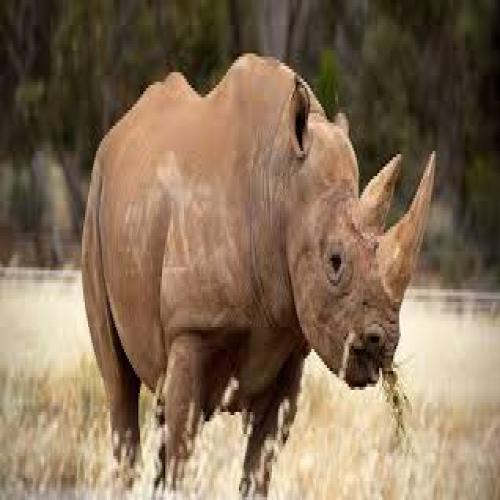rhino-endangered: (88, 67, 434, 481)
